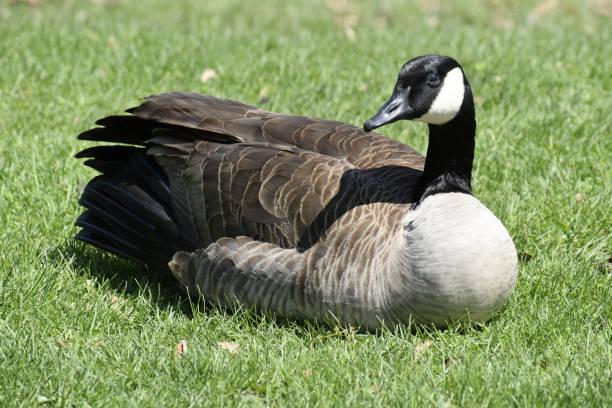Canadian-Goose: (73, 52, 518, 333)
